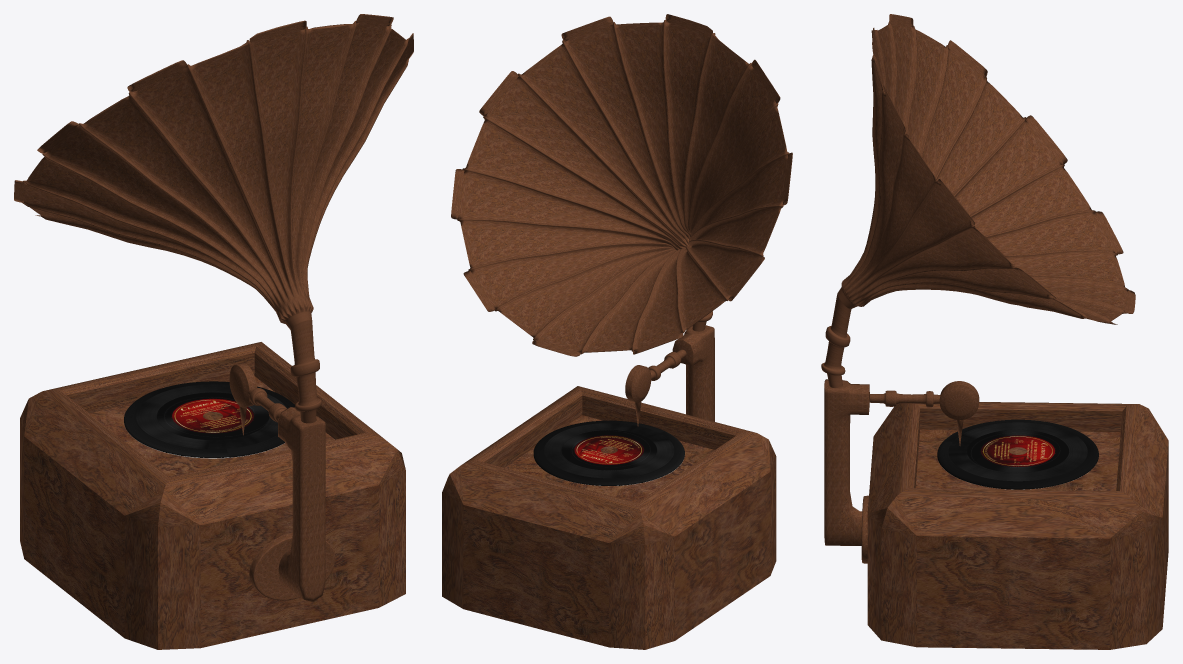
Rendered from gramofone.fbx.
3 views of the same model, side by side, from view 1: azimuth 30°, elevation 25°; view 2: azimuth 150°, elevation 25°; view 3: azimuth 270°, elevation 25° (orthographic). The views are drawn at different scales.
Visible parts, largest first — view 1: pCube7, pCylinder13, pCylinder11, pCube6, pCylinder15, pCylinder14, pCylinder16; view 2: pCylinder13, pCube7, pCylinder11, pCube6, pCylinder14, pCylinder16; view 3: pCube7, pCylinder13, pCylinder11, pCube6, pCylinder14, pCylinder16.
Part boxes in pixels (<box>): pCube7: <box>20,342,405,649</box>; pCylinder13: <box>14,14,413,423</box>; pCylinder11: <box>124,381,294,458</box>; pCube6: <box>278,407,325,601</box>; pCylinder15: <box>249,533,335,600</box>; pCylinder14: <box>229,363,257,407</box>; pCylinder16: <box>248,388,286,422</box>; pCylinder13: <box>451,14,792,356</box>; pCube7: <box>442,386,776,649</box>; pCylinder11: <box>533,420,684,486</box>; pCube6: <box>672,325,714,421</box>; pCylinder14: <box>625,365,651,402</box>; pCylinder16: <box>648,349,686,380</box>; pCube7: <box>867,402,1168,649</box>; pCylinder13: <box>821,14,1135,387</box>; pCylinder11: <box>937,419,1098,489</box>; pCube6: <box>824,379,869,545</box>; pCylinder14: <box>939,381,979,420</box>; pCylinder16: <box>869,390,940,407</box>.
Bounding box in the file's own units: 5.89 × 9.27 × 5.25.
2 materials, 2 textured.
